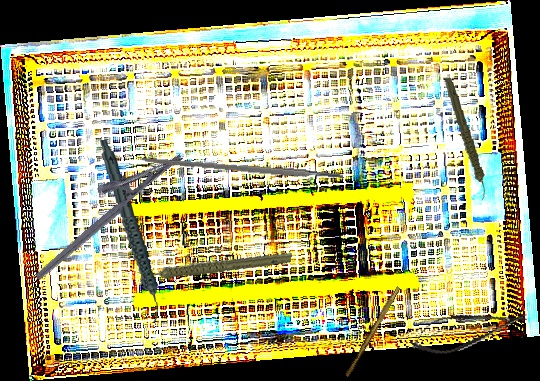Handpiece: (100, 137, 161, 325), (137, 234, 293, 295), (443, 75, 488, 203)
Micro Scissor: (405, 297, 532, 363)
Needle Holder: (17, 132, 185, 282)
Scalpel Handle: (141, 155, 344, 182), (344, 284, 401, 379)
